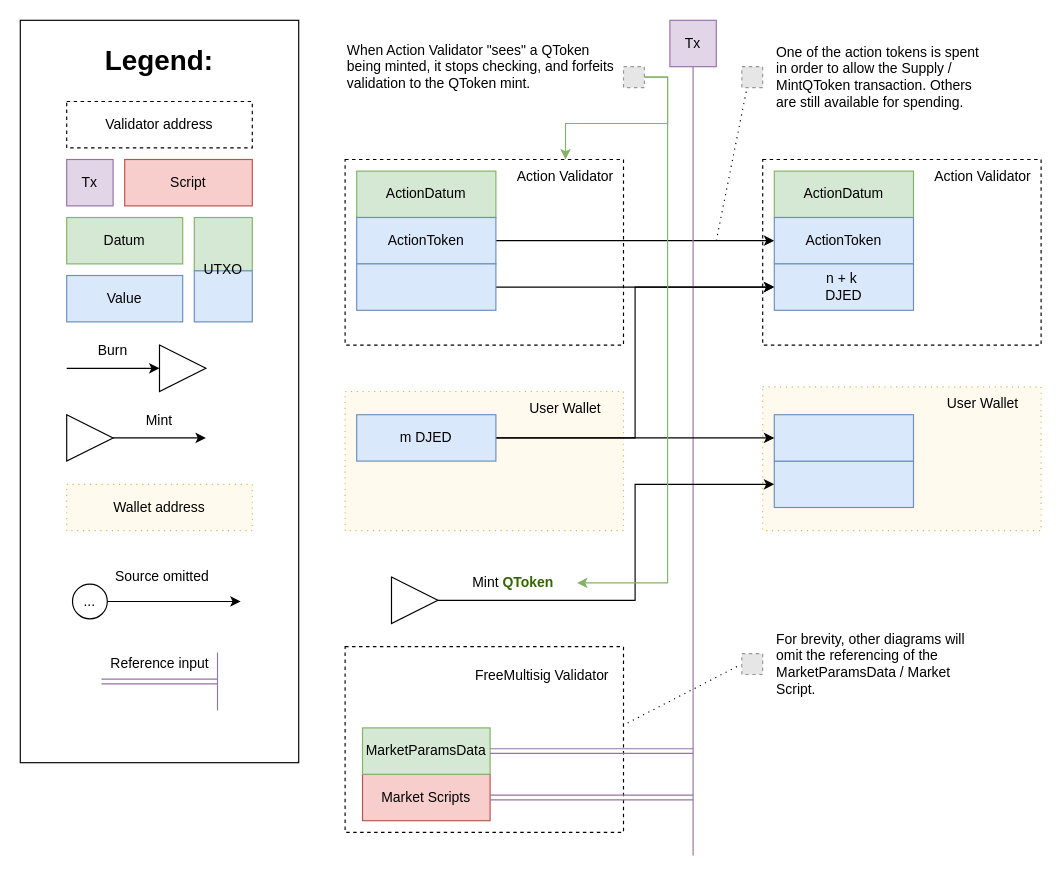
This 1061x877 diagram has some shape labels left out. Grey dashed boxes stand in for pictures. The centre of each missing label's shape, as x and y in pixels:
m - k DJED: the point at 843,437
n DJED: the point at 426,286
qDJED: the point at 843,483
